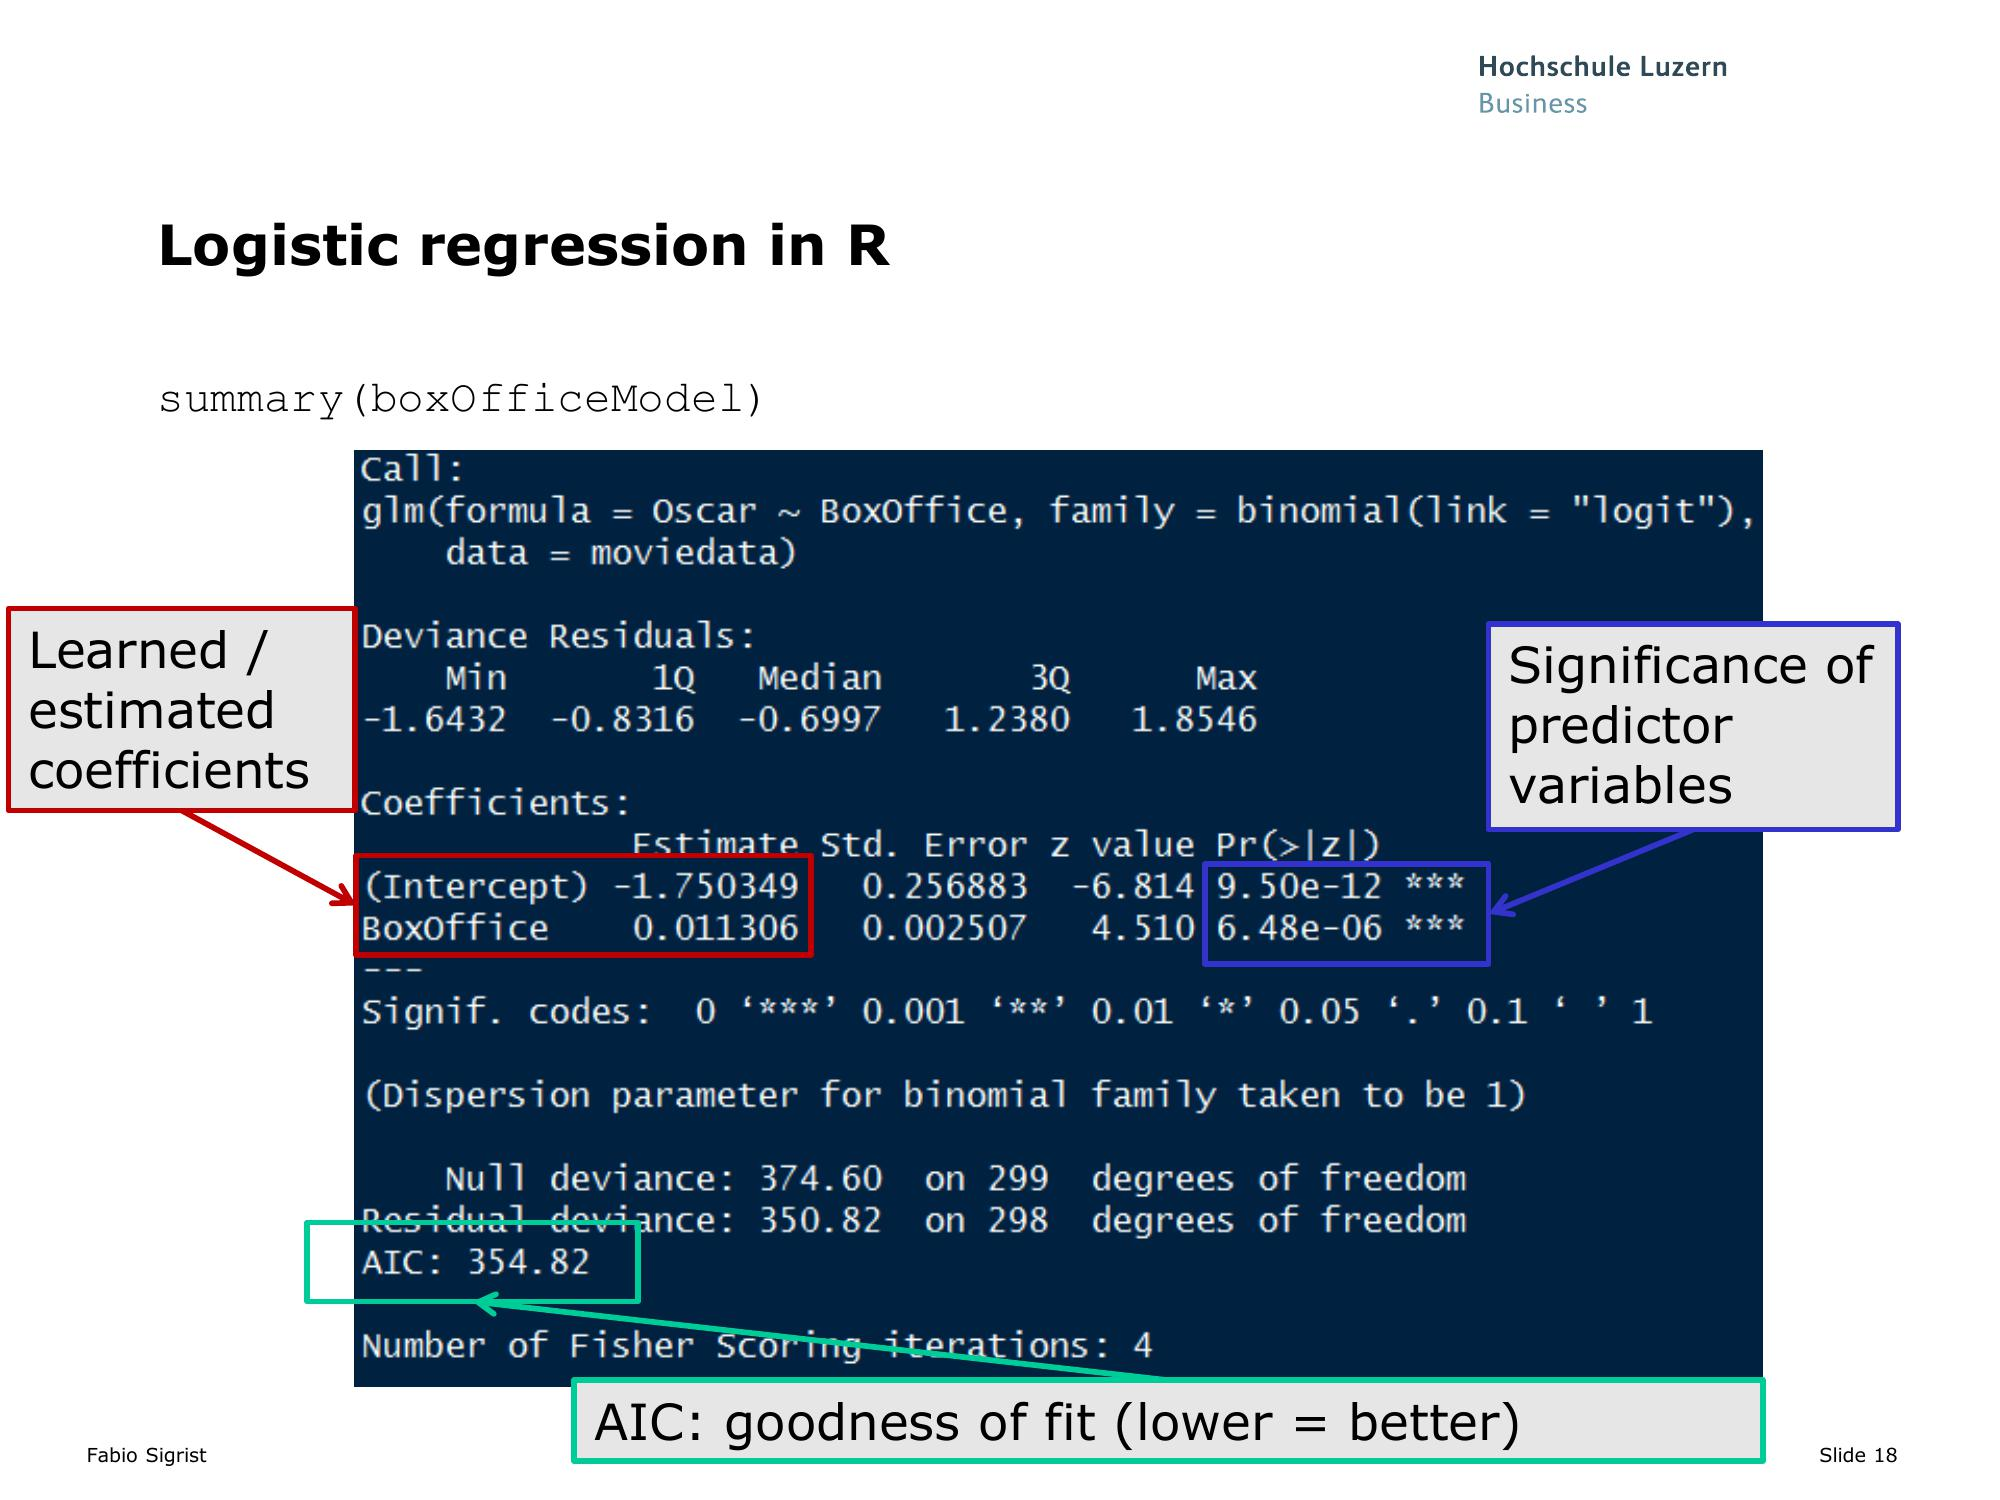Title: (113, 199, 907, 291)
